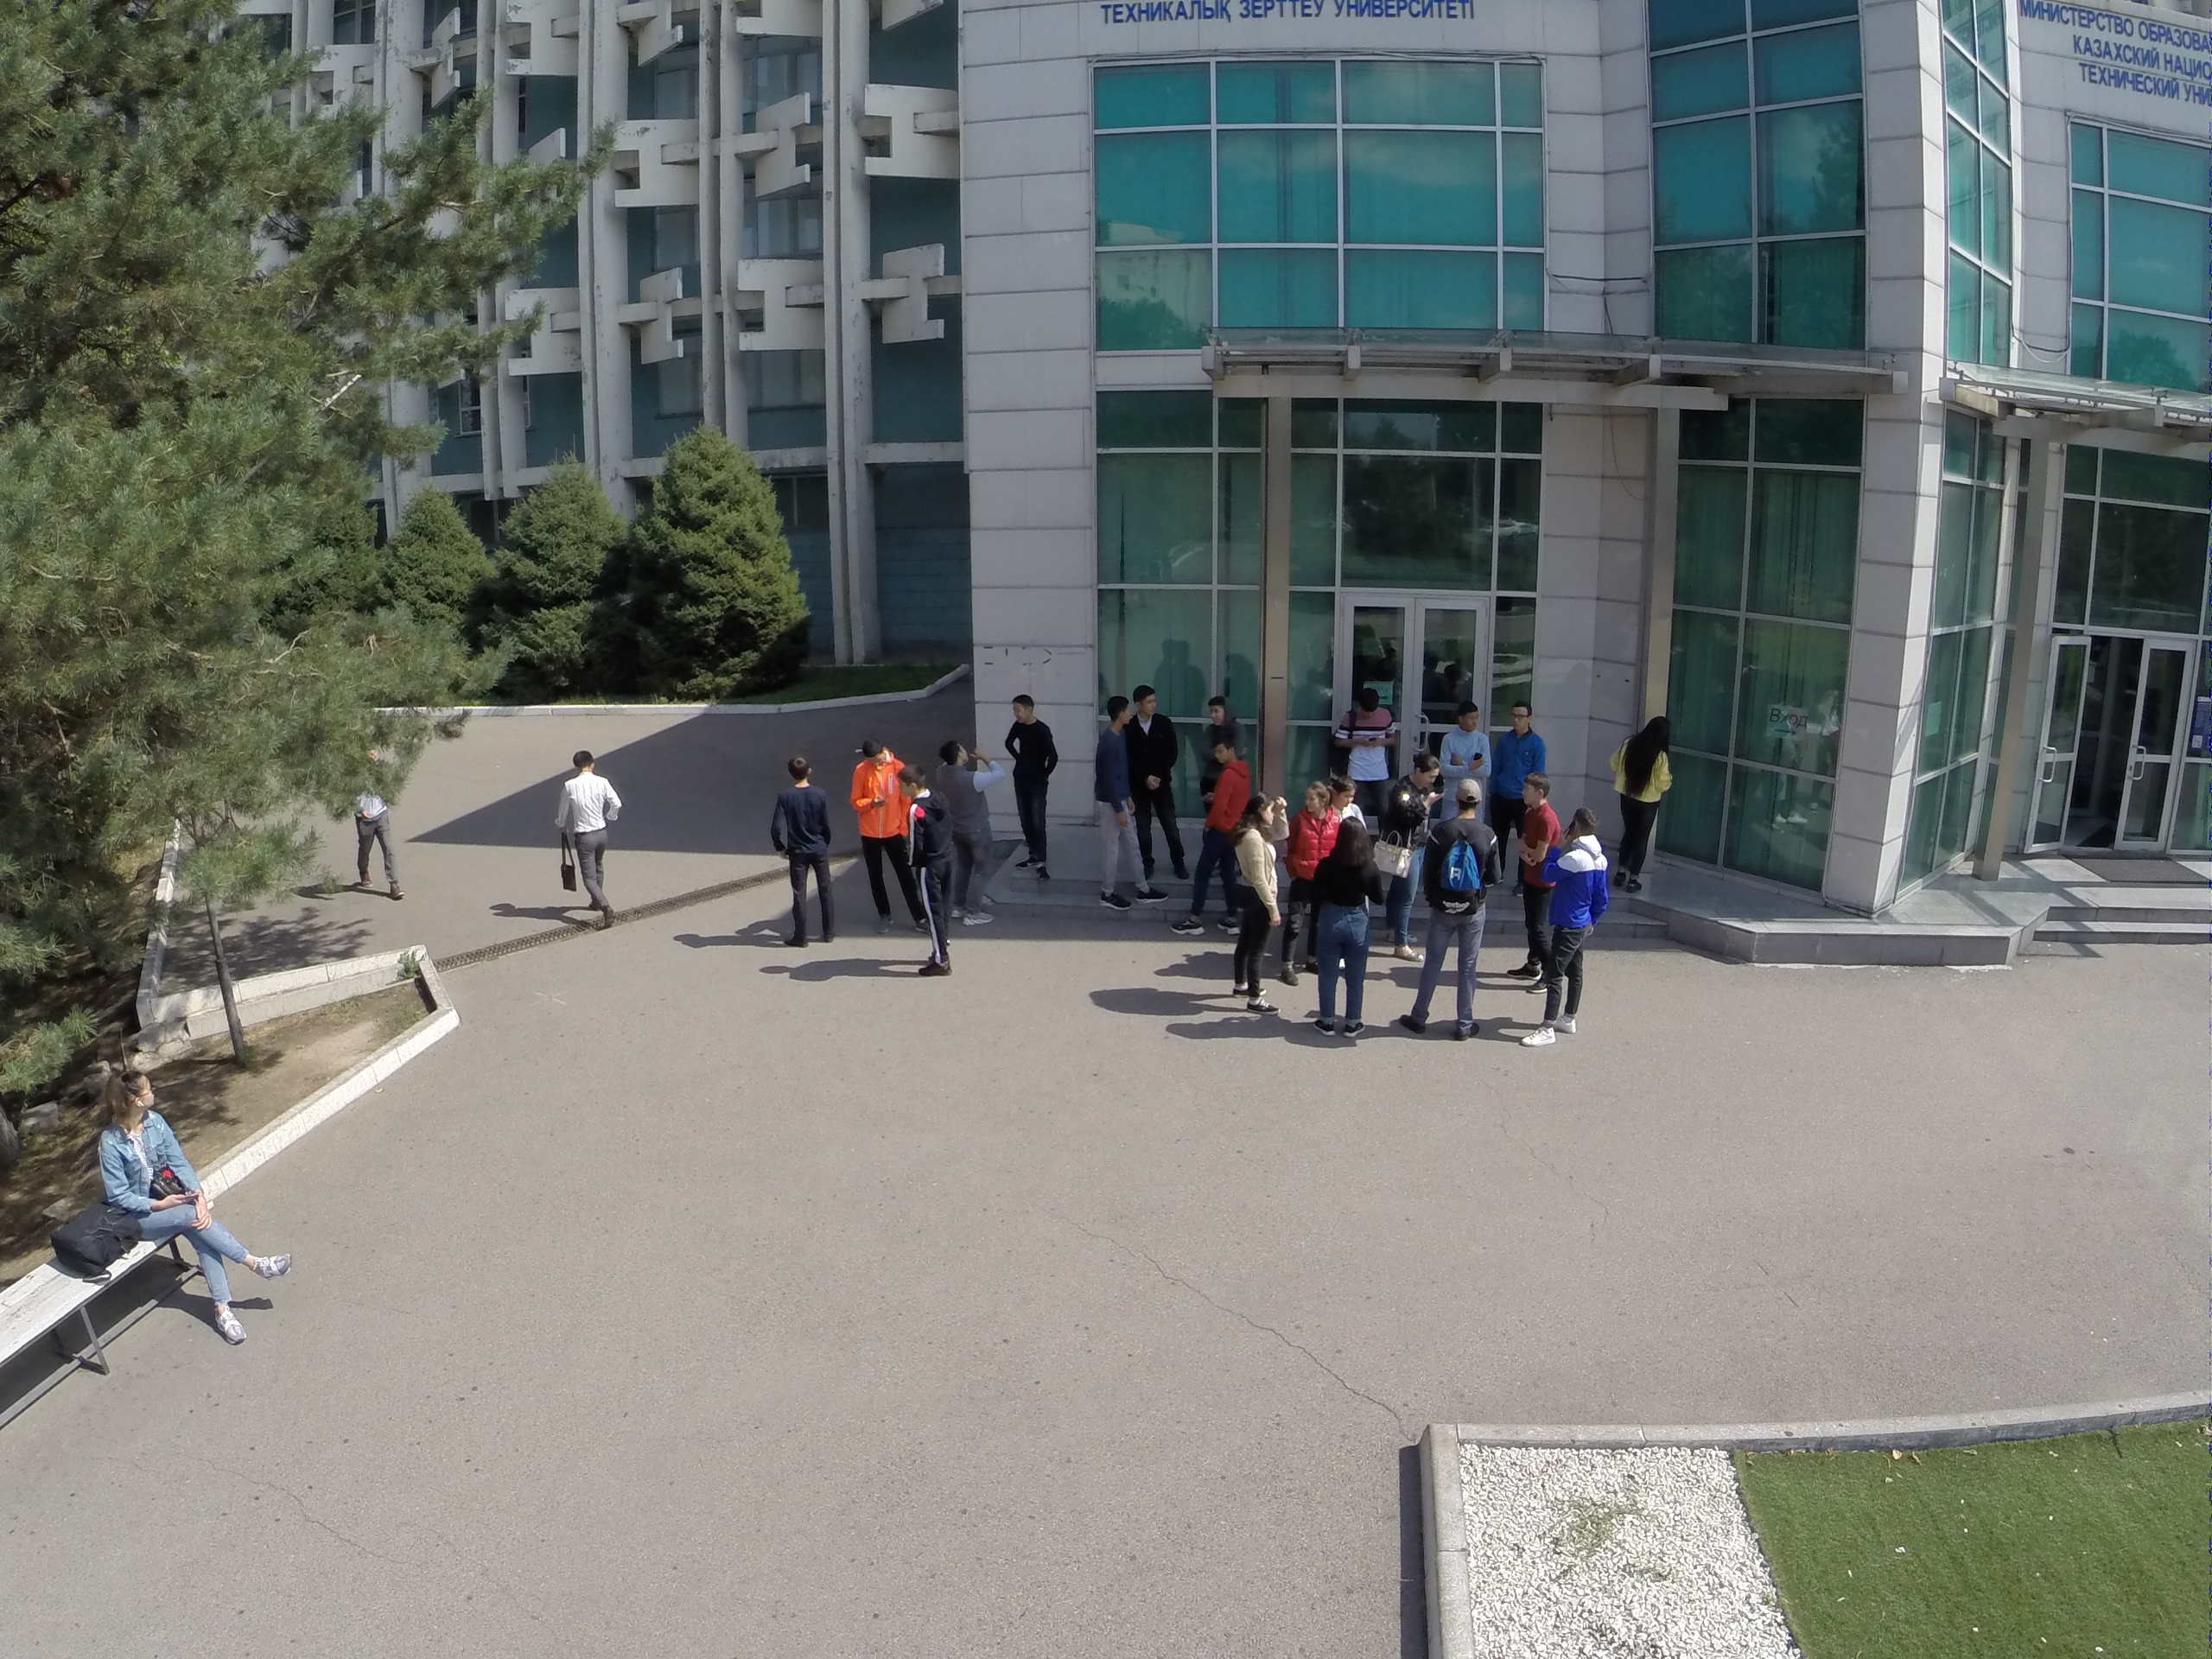person: (84, 1065, 292, 1365), (1400, 777, 1500, 1052), (1533, 803, 1614, 1055), (1302, 821, 1380, 1046), (536, 743, 625, 931), (1225, 794, 1288, 1019), (1173, 746, 1243, 939), (767, 753, 841, 942), (1077, 691, 1140, 910), (1611, 710, 1681, 894), (1512, 777, 1567, 996), (897, 764, 954, 976), (857, 740, 915, 932), (1130, 683, 1183, 880), (1007, 693, 1058, 880), (944, 736, 988, 933), (1333, 681, 1390, 803), (1445, 702, 1497, 796), (1496, 700, 1539, 793), (1199, 691, 1243, 761), (1293, 777, 1324, 860)
